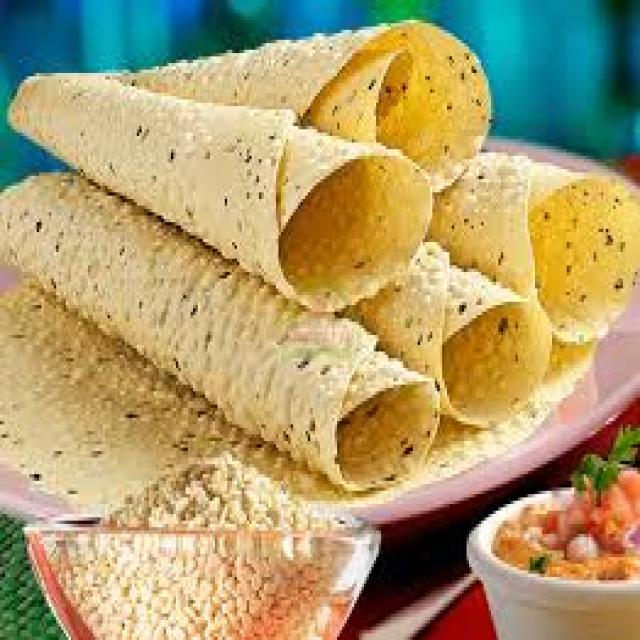papad: (3, 168, 438, 484), (15, 65, 434, 319), (102, 16, 490, 193), (440, 129, 640, 336), (364, 235, 561, 429)
